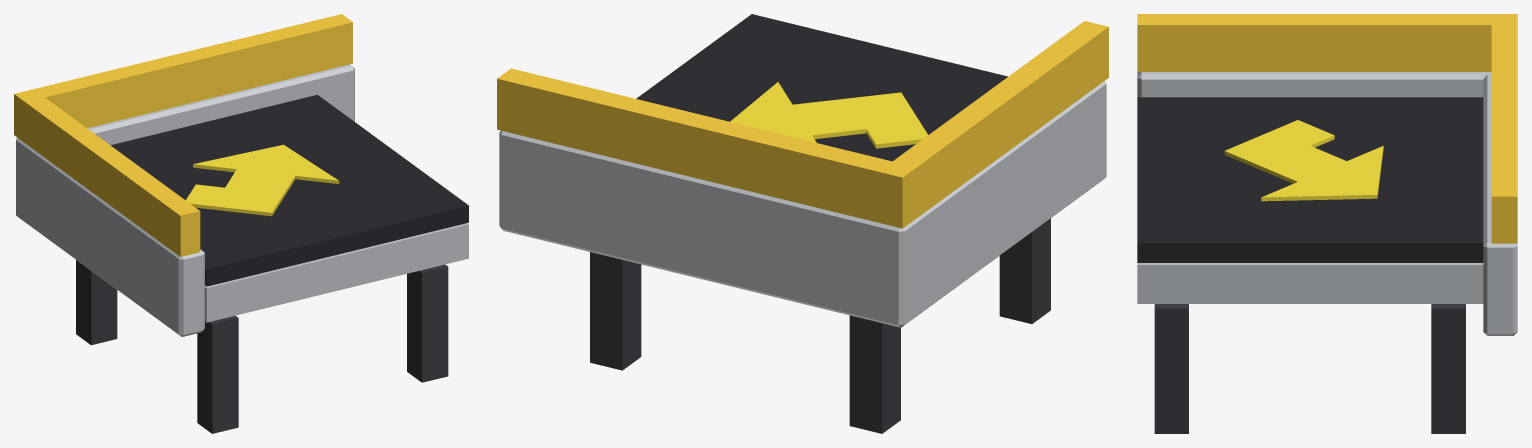
The model's file is ConveyorCorner.fbx.
3 views of the same model, side by side, from view 1: azimuth 30°, elevation 25°; view 2: azimuth 150°, elevation 25°; view 3: azimuth 270°, elevation 25° (orthographic). The views are drawn at different scales.
Visible parts, largest first — view 1: ConveyorCorner, ConveyorCorner_Belt; view 2: ConveyorCorner, ConveyorCorner_Belt; view 3: ConveyorCorner, ConveyorCorner_Belt.
Part boxes in pixels (box(x1,y1,x2,y2)): ConveyorCorner: box(14, 14, 468, 433); ConveyorCorner_Belt: box(110, 94, 468, 286); ConveyorCorner: box(497, 21, 1108, 433); ConveyorCorner_Belt: box(636, 14, 1007, 161); ConveyorCorner: box(1137, 14, 1517, 433); ConveyorCorner_Belt: box(1137, 97, 1483, 262).
Bounding box in the file's own units: 5 × 3.4 × 4.4.
1 material, 1 textured.
